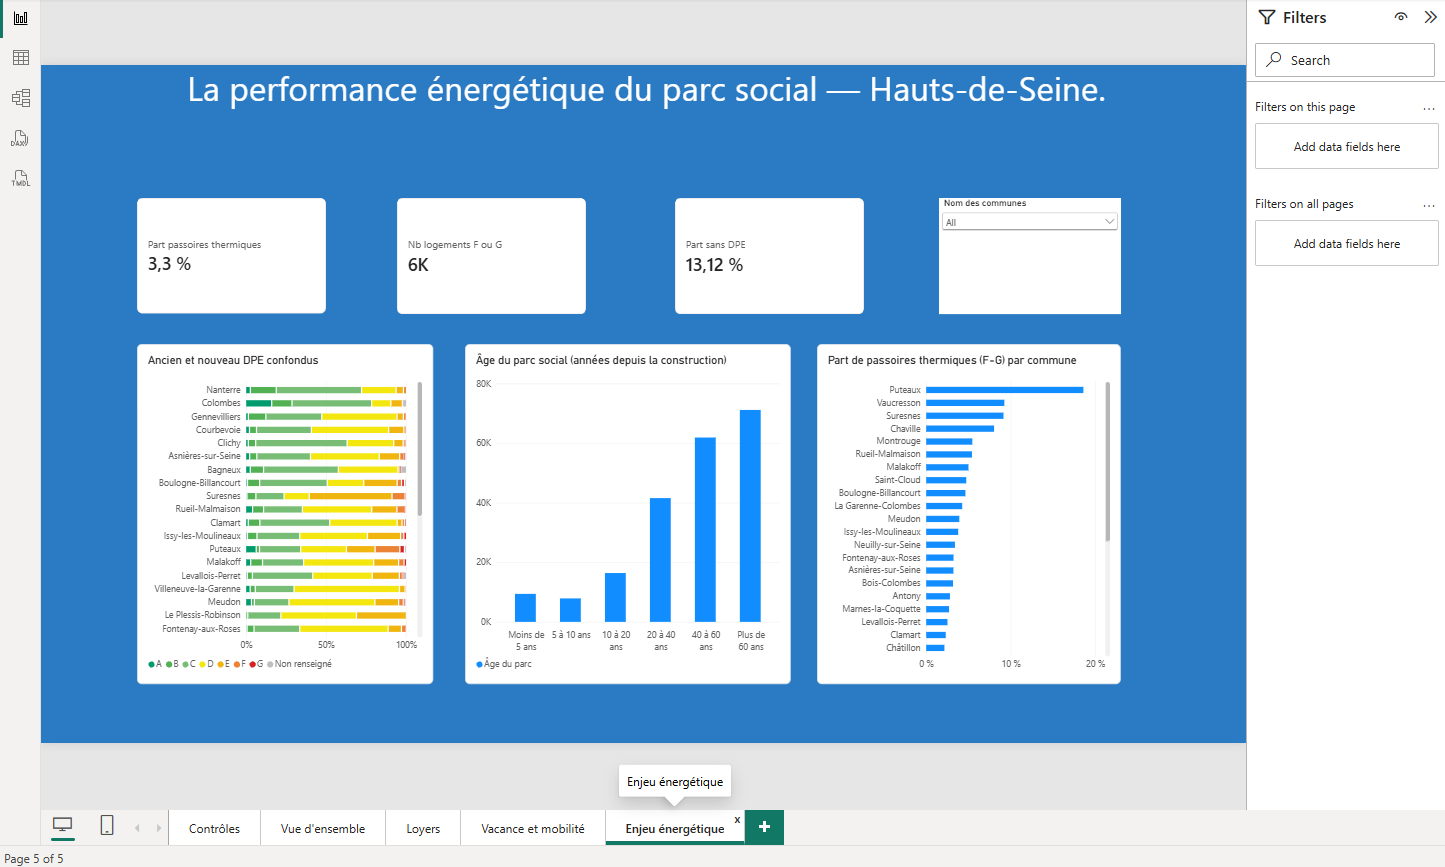

What the dashboard file says about the page in this screenshot:
{"tool":"powerbi","page":{"name":"Enjeu énergétique","canvas":[1920,1080],"ordinal":4},"visuals":[{"type":"textbox","box":[9.6,0,1910.4,143.4],"z":0},{"type":"cardVisual","fields":{"Data":["_Mesures.Part passoires thermiques"]},"box":[153,211.9,301.1,184.8],"z":1},{"type":"cardVisual","fields":{"Data":["_Mesures.Nb logements F ou G"]},"box":[567.2,211.9,301,185],"z":2},{"type":"cardVisual","fields":{"Data":["_Mesures.Part sans DPE"]},"box":[1010.2,211.9,301,185],"z":3},{"type":"clusteredColumnChart","title":"Âge du parc social (années depuis la construction)","fields":{"Category":["fact_repartition.categorie"],"Series":["fact_repartition.theme"],"Y":["Sum(fact_repartition.nb_logements)"]},"box":[675.6,444.5,519.4,541.7],"z":5},{"type":"slicer","fields":{"Values":["dim_commune.nom_commune"]},"box":[1430.8,211.9,290,184.8],"z":6},{"type":"hundredPercentStackedBarChart","title":"Ancien et nouveau DPE confondus","fields":{"Category":["dim_commune.nom_commune"],"Series":["fact_repartition.categorie"],"Y":["Sum(fact_repartition.nb_logements)"]},"box":[153,444.5,471.6,541.7],"z":7},{"type":"clusteredBarChart","title":"Part de passoires thermiques (F-G) par commune","fields":{"Category":["dim_commune.nom_commune"],"Y":["_Mesures.Part passoires thermiques"]},"box":[1236.4,444.5,484.4,541.7],"z":8}]}

Visuals, with their boxes on the page's 1920x1080 design canvas (x1, y1, x2, y2). These are canvas units, not pixel positions in the 1445x867 screenshot, which may show the page scaled, cropped or inside an application window:
textbox: 10 0 1920 143
cardVisual - _Mesures.Part passoires thermiques: 153 212 454 397
cardVisual - _Mesures.Nb logements F ou G: 567 212 868 397
cardVisual - _Mesures.Part sans DPE: 1010 212 1311 397
"Âge du parc social (années depuis la construction)" clusteredColumnChart: 676 444 1195 986
slicer - dim_commune.nom_commune: 1431 212 1721 397
"Ancien et nouveau DPE confondus" hundredPercentStackedBarChart: 153 444 625 986
"Part de passoires thermiques (F-G) par commune" clusteredBarChart: 1236 444 1721 986
